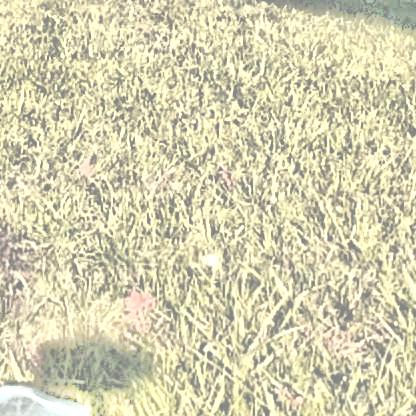golfball: (198, 247, 215, 262)
